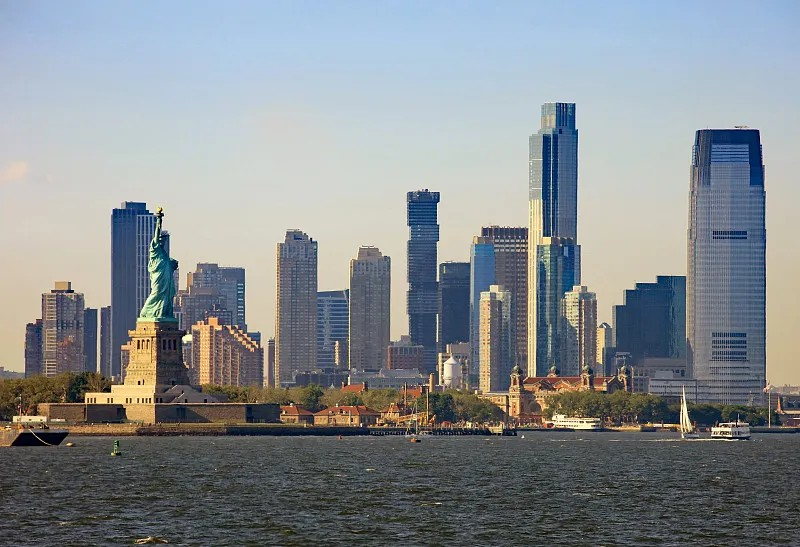SL: (123, 207, 191, 386)
